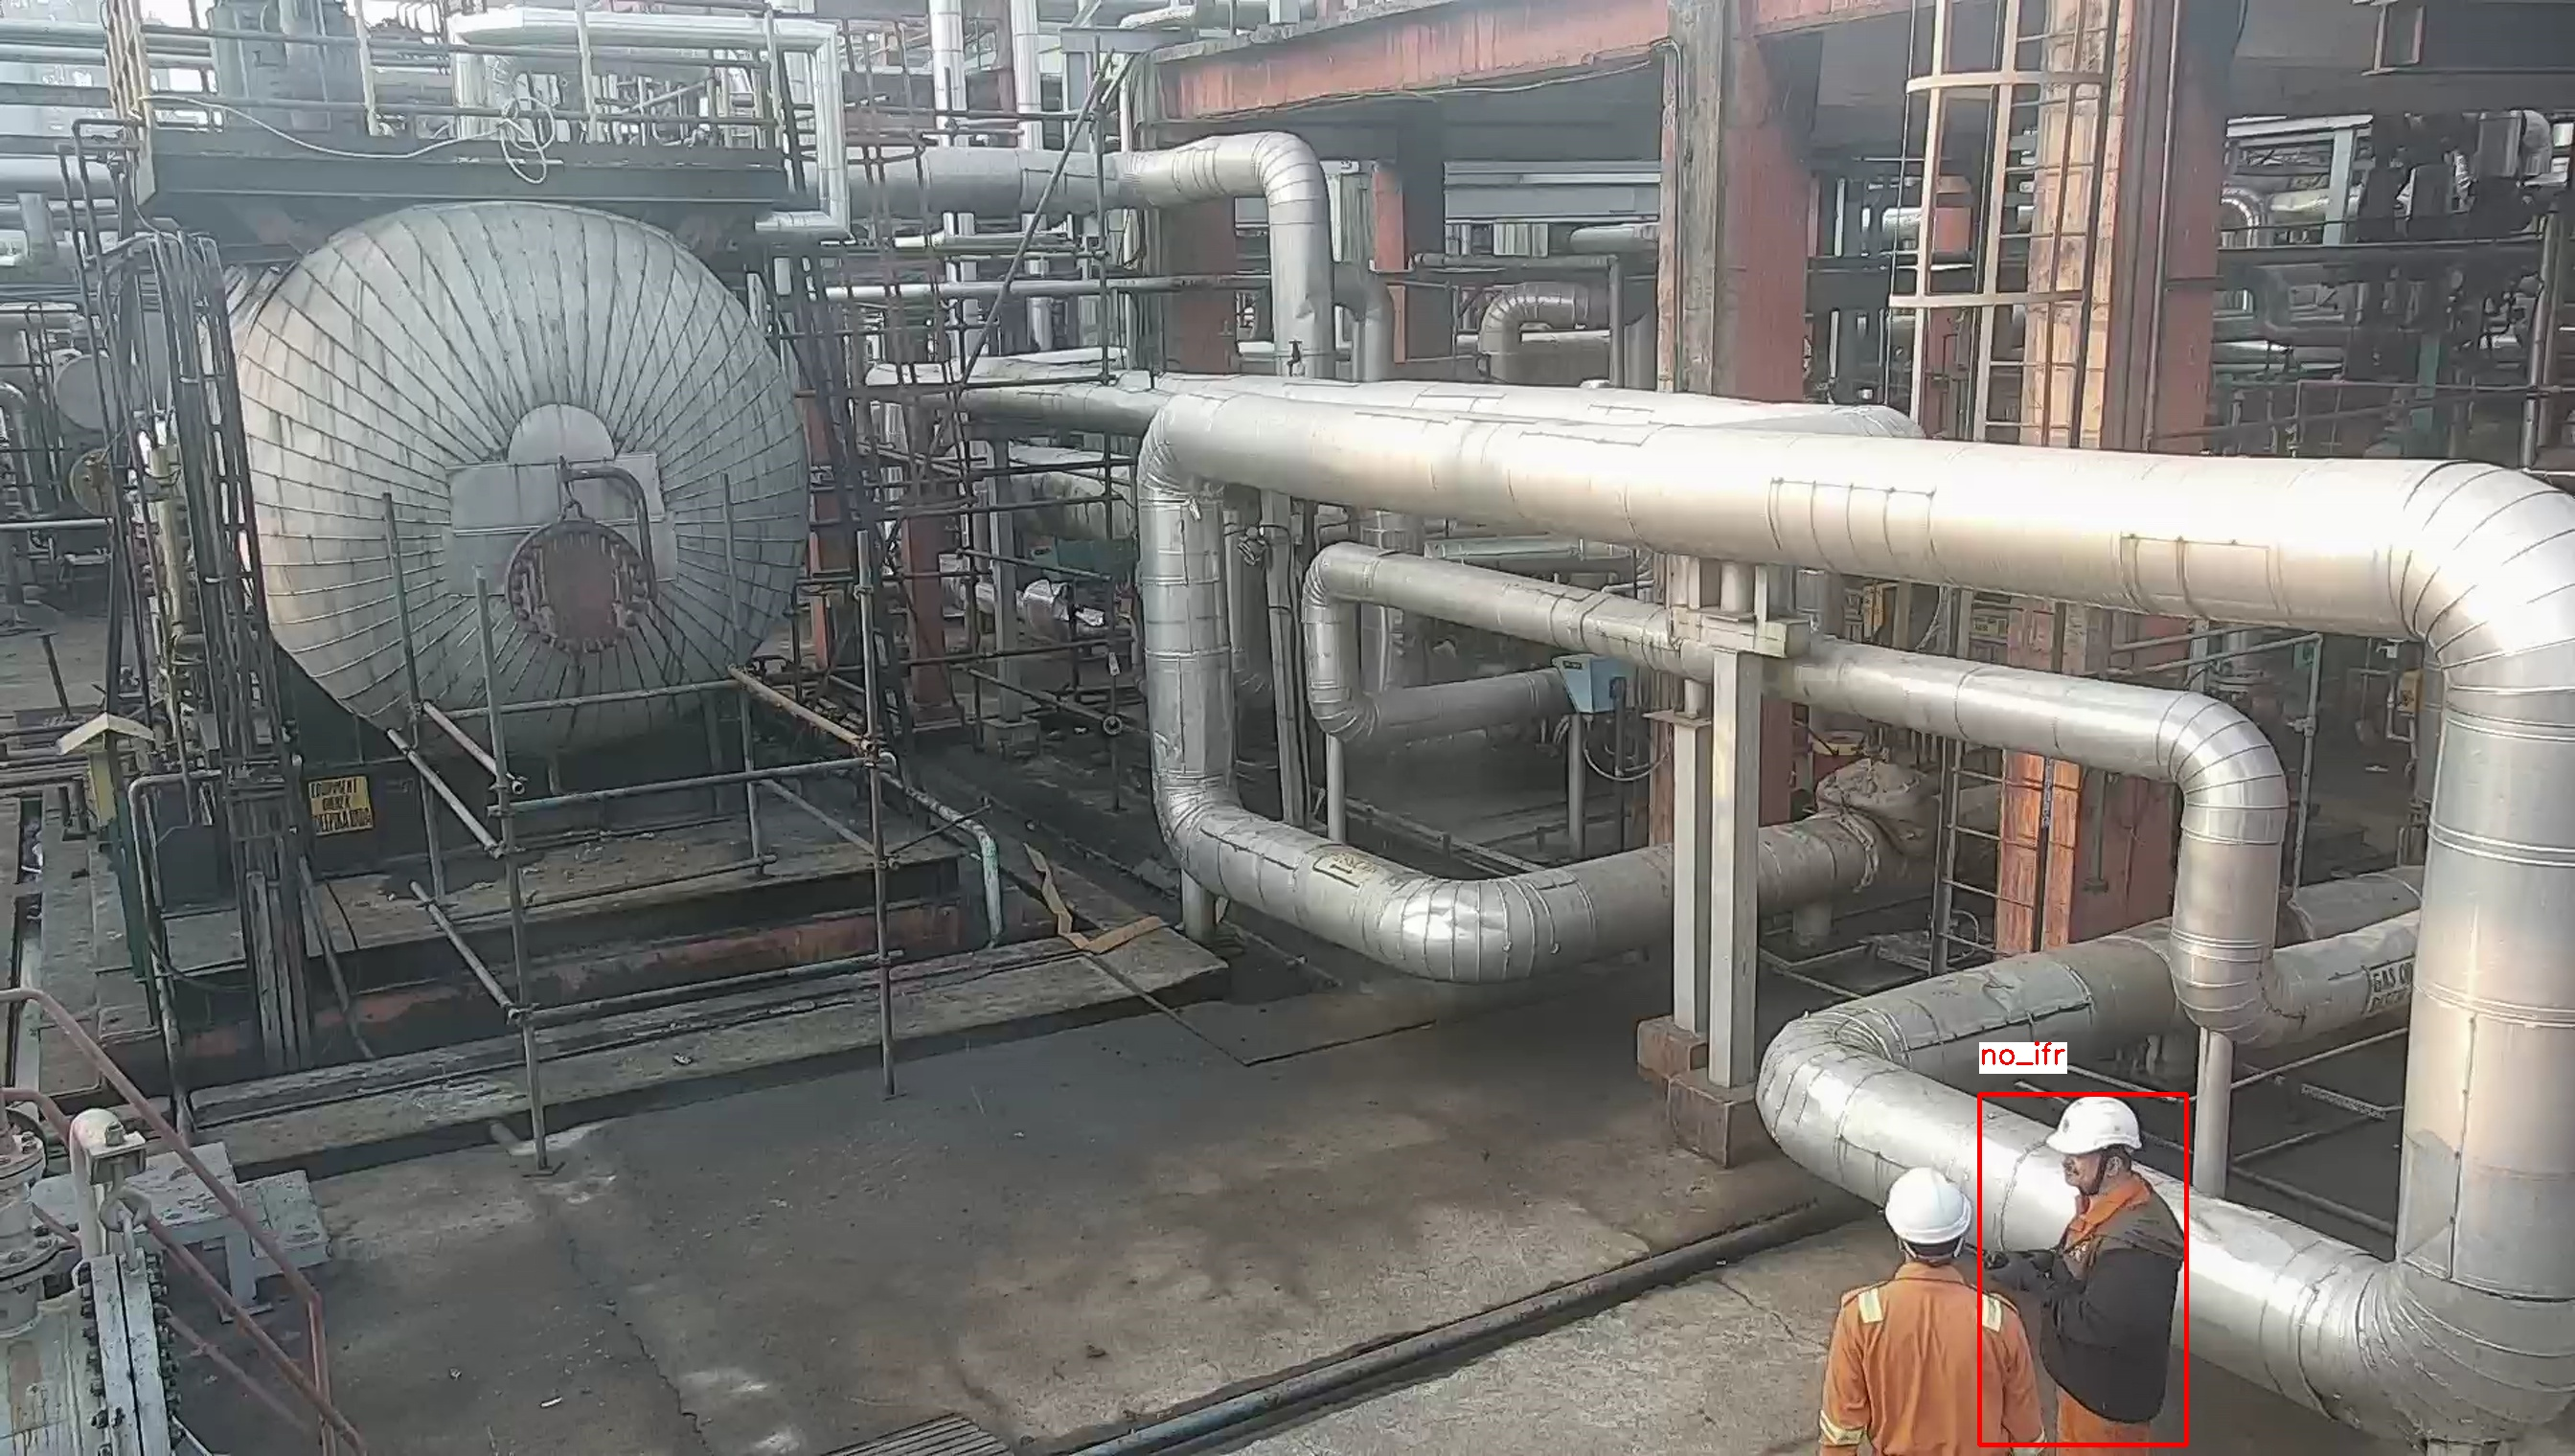Helmets: (1868, 1157, 1986, 1251), (2039, 1097, 2151, 1162)
IFR_Suit: (2020, 1189, 2193, 1447), (1807, 1258, 2041, 1440)
